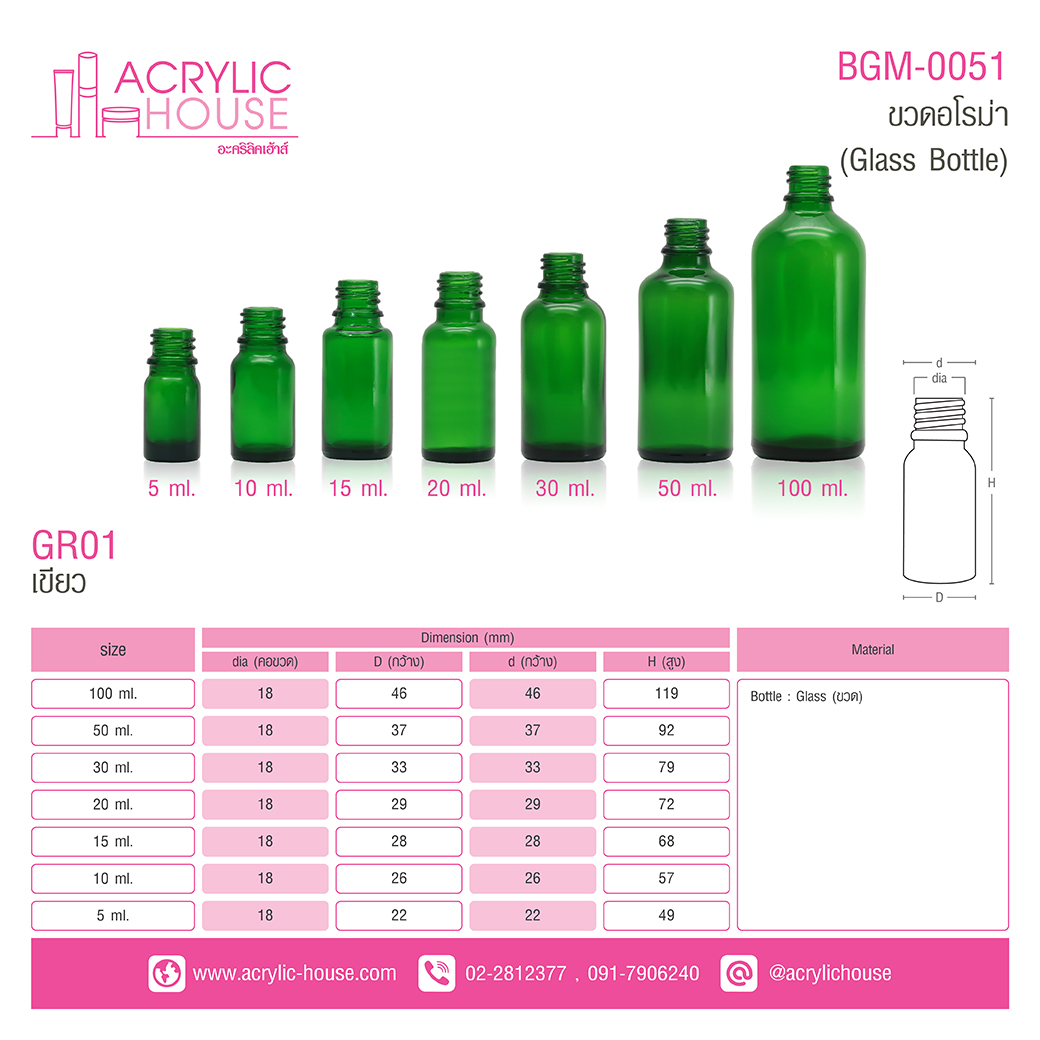glass_bottle: (106, 154, 880, 476)
